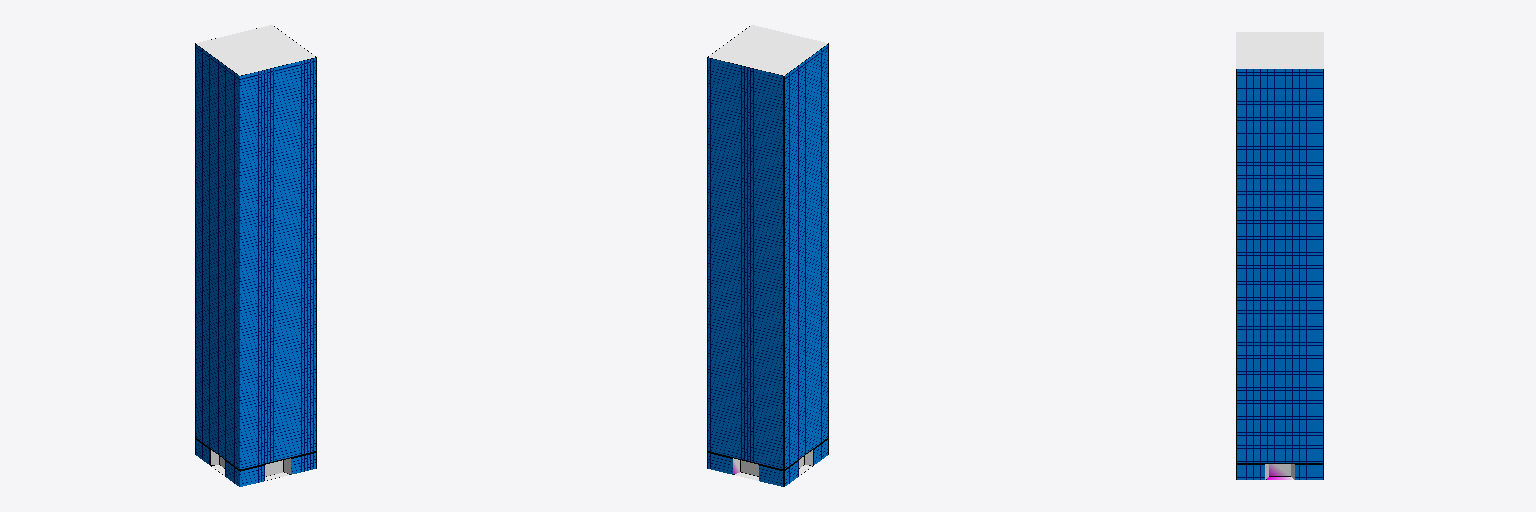
3 renders of one model, left to right at view 1: azimuth 30°, elevation 25°; view 2: azimuth 150°, elevation 25°; view 3: azimuth 270°, elevation 25°, orthographic.
Visible parts, largest first — view 1: Cube1; view 2: Cube1; view 3: Cube1.
Part boxes in pixels (x1,y1,x2,y2): Cube1: (195,25,316,486); Cube1: (707,25,828,486); Cube1: (1236,32,1323,479).
Size of the model in its own units: 20 by 102 by 20.
2 materials, 1 textured.